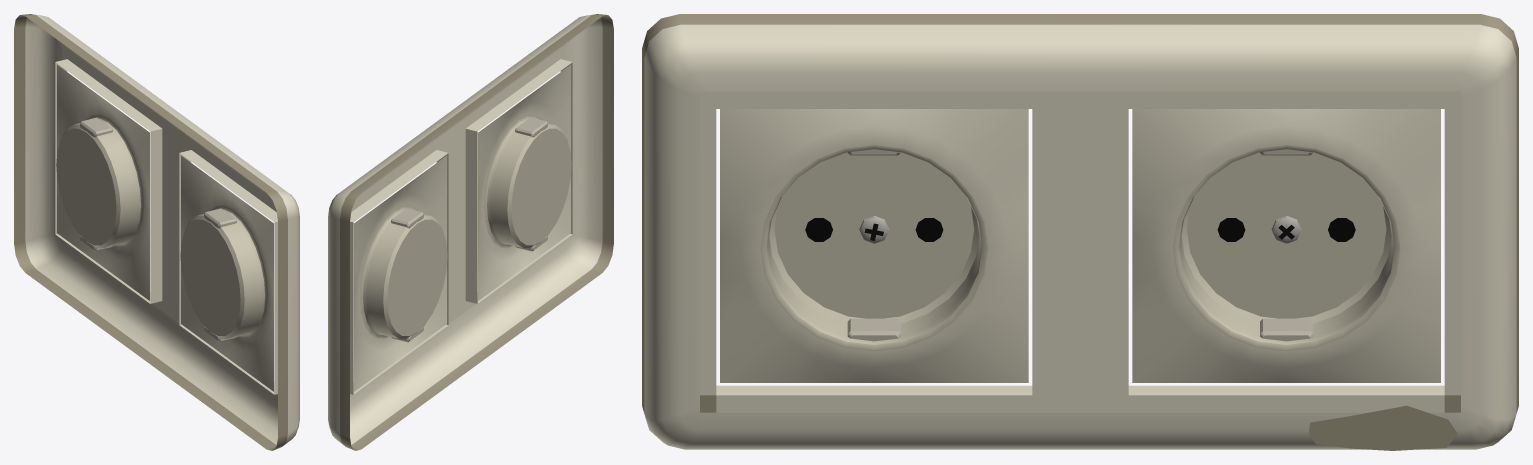
File: outlet@1.glb
3 renders of one model, left to right at view 1: azimuth 30°, elevation 25°; view 2: azimuth 150°, elevation 25°; view 3: azimuth 270°, elevation 25°, orthographic. The views are drawn at different scales.
Visible parts, largest first — view 1: steckdose; view 2: steckdose; view 3: steckdose.
Boxes of the visible parts, <box> form: steckdose: <box>14,14,299,450</box>; steckdose: <box>328,14,613,450</box>; steckdose: <box>642,14,1518,450</box>.
Size of the model in its own units: 0.0103 by 0.081 by 0.151.
